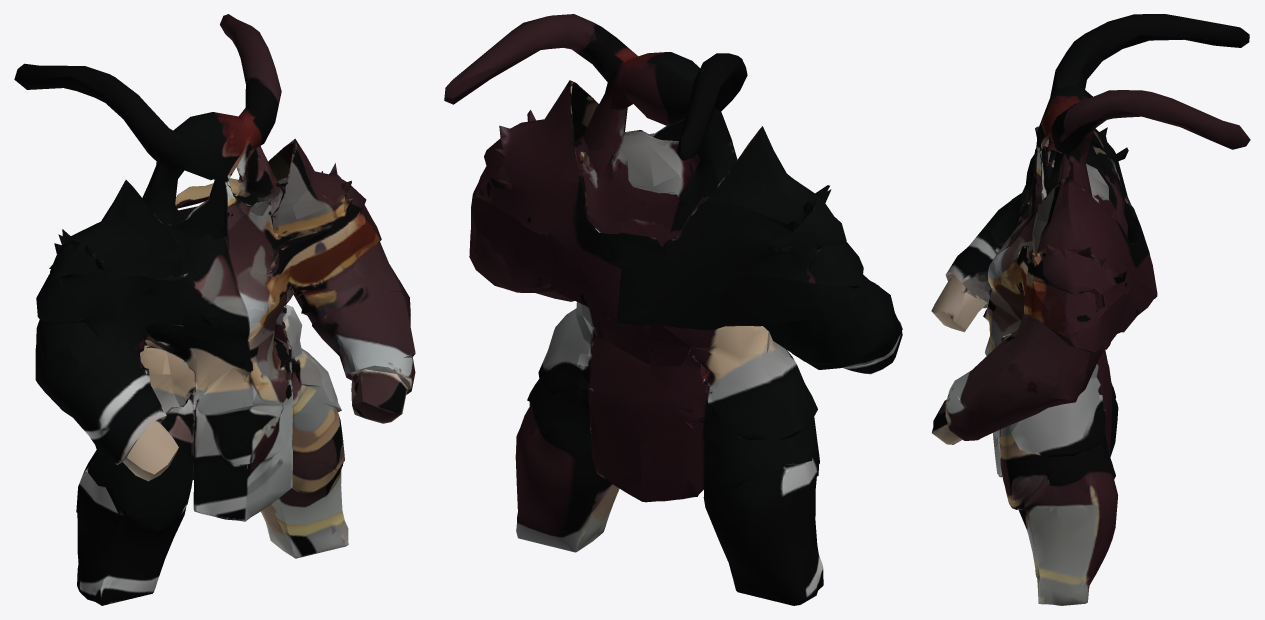
File: chunky-knight-clean_parts_web.glb
3 renders of one model, left to right at view 1: azimuth 30°, elevation 25°; view 2: azimuth 150°, elevation 25°; view 3: azimuth 270°, elevation 25°, orthographic. The views are drawn at different scales.
Parts seen in each view (by area): view 1: part_00; view 2: part_00; view 3: part_00.
Part boxes in pixels (box(x1,y1,x2,y2)): part_00: box(14, 14, 415, 605); part_00: box(444, 14, 902, 605); part_00: box(931, 14, 1250, 605).
Bounding box in the file's own units: 1.54 × 1.99 × 1.18.
Materials: 6 (6 with a texture image).
